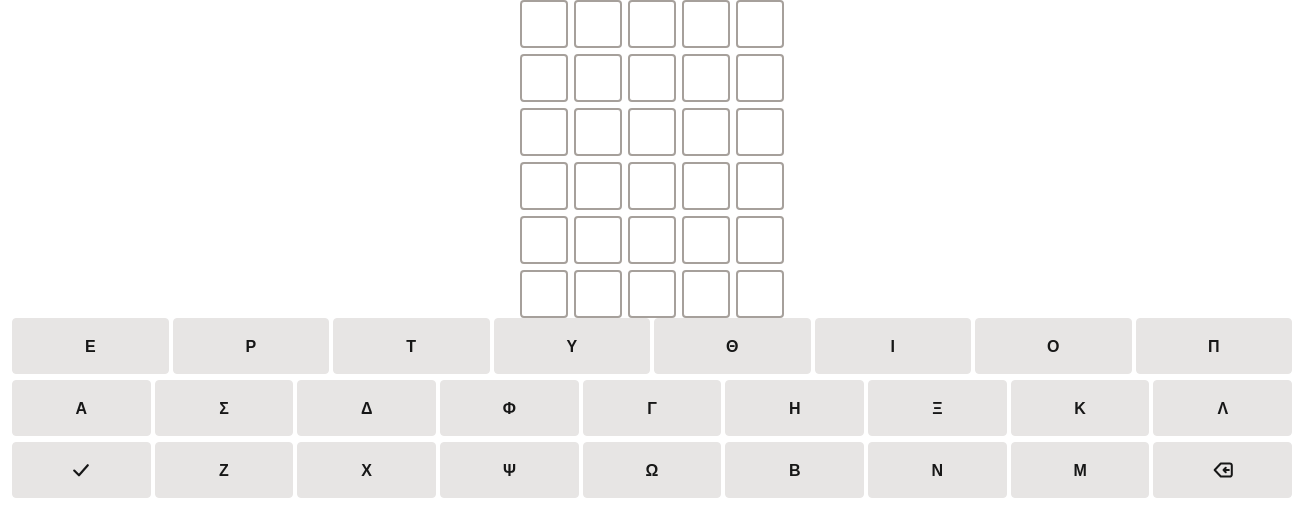
Scenario: on-screen keyboard — enter key › clicking ↵ with a full valid guess submits the row and tiles leave pending state
The width and height of the screenshot is (1304, 515).
Click the button with test id "key-α" at x=81, y=408, box [12,380,151,436]
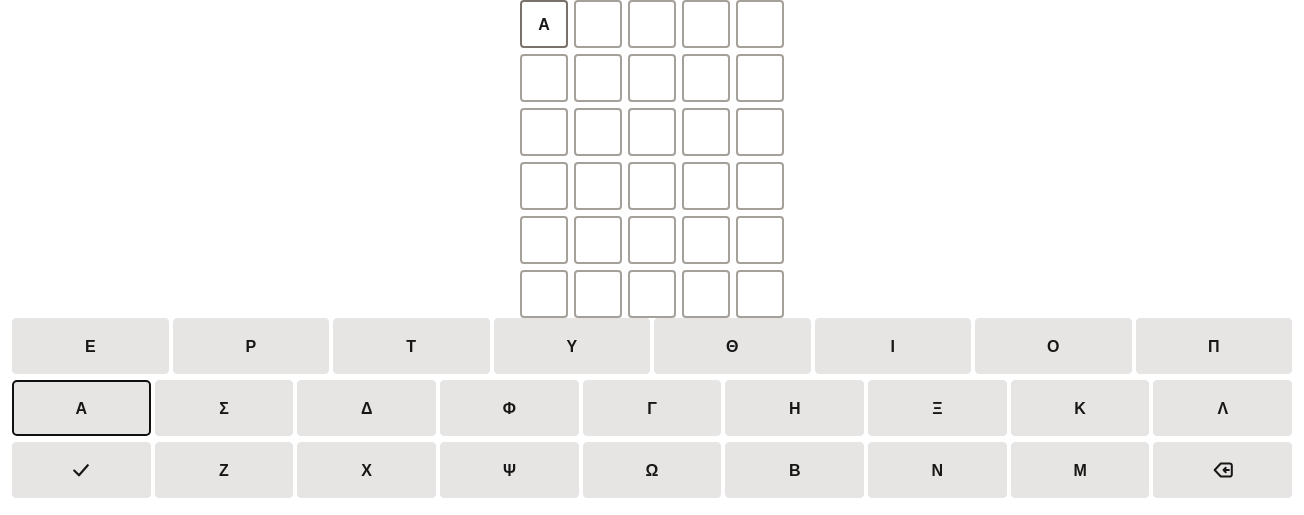
Click the button "Ζ" at x=224, y=470, box [155,442,293,498]
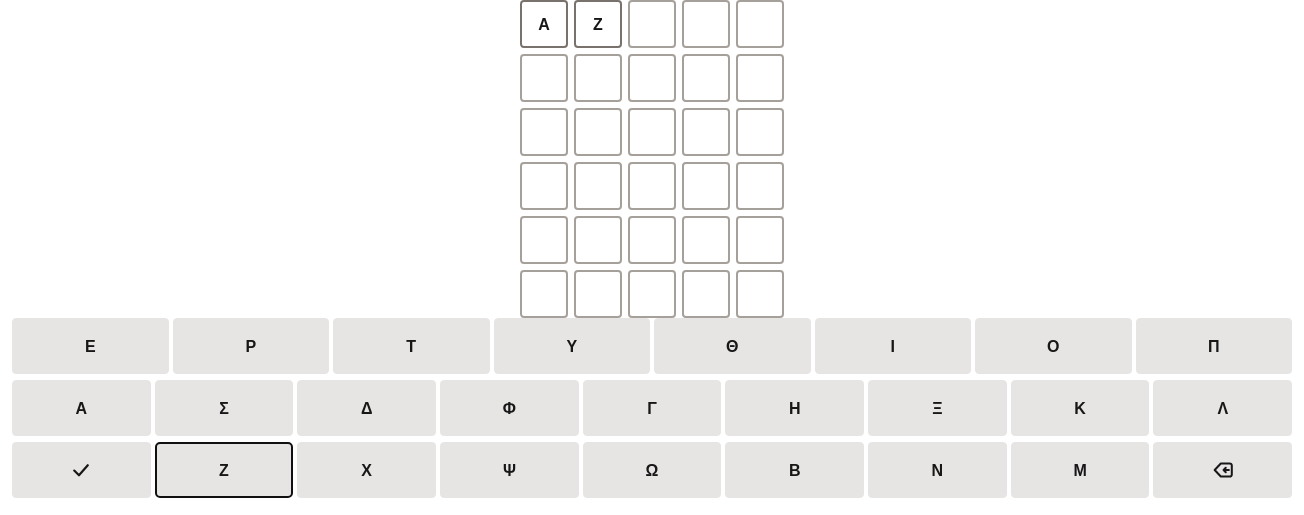
Click the button "Η" at x=795, y=408, box [725,380,864,436]
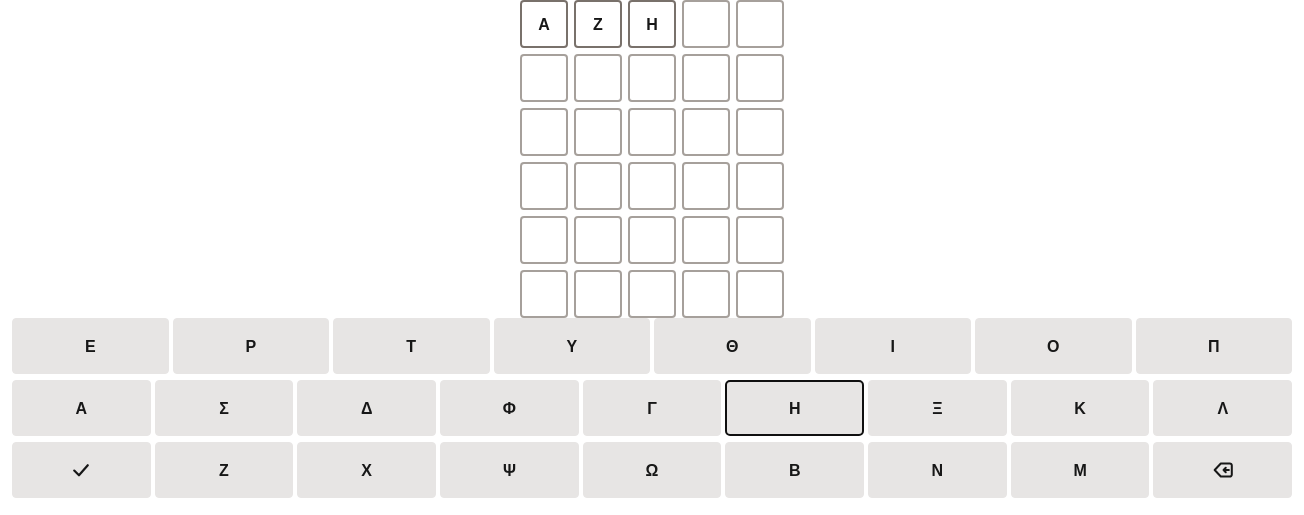
Click the button "Θ" at x=732, y=346, box [654,318,810,374]
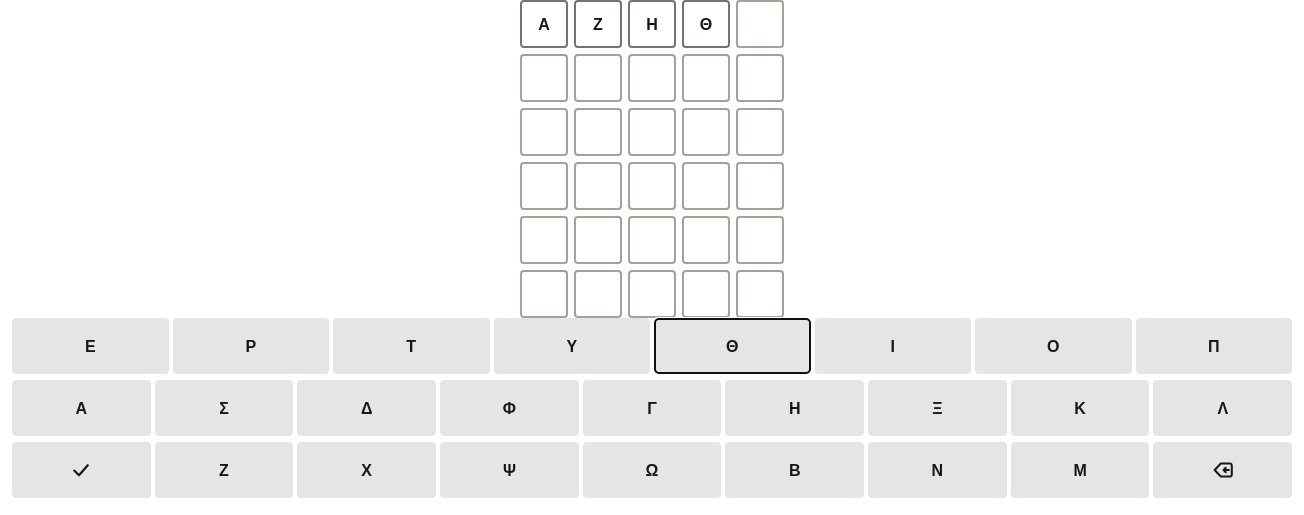
Click the button "Ι" at x=893, y=346, box [814,318,971,374]
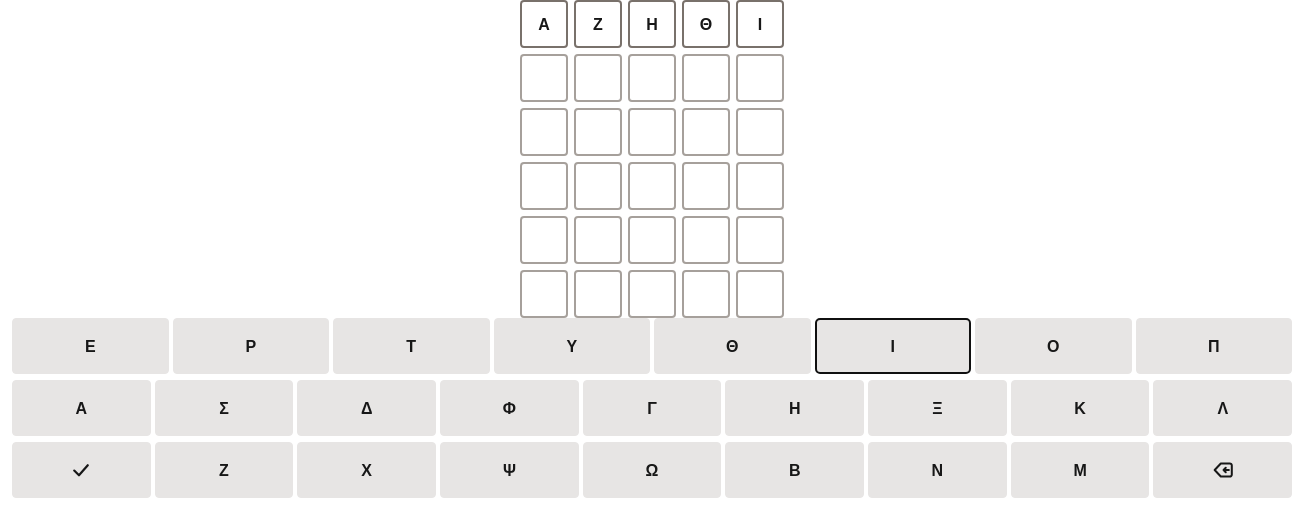
Click the button with test id "btn-enter" at x=81, y=470, box [12,442,151,498]
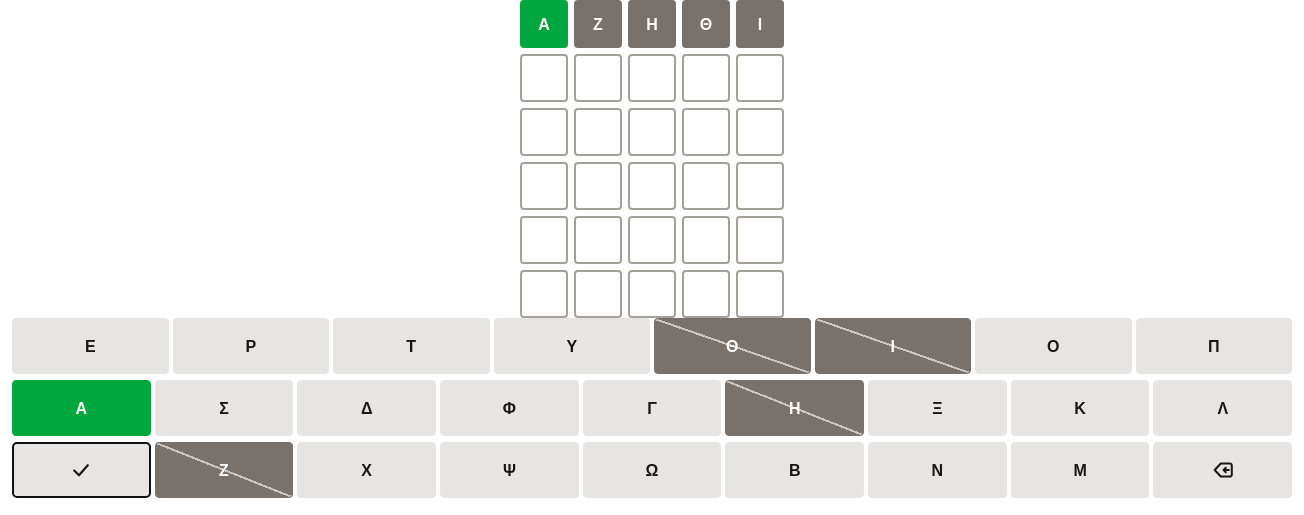
Now the text named "Α correct" is shown, box [520,0,568,48]
